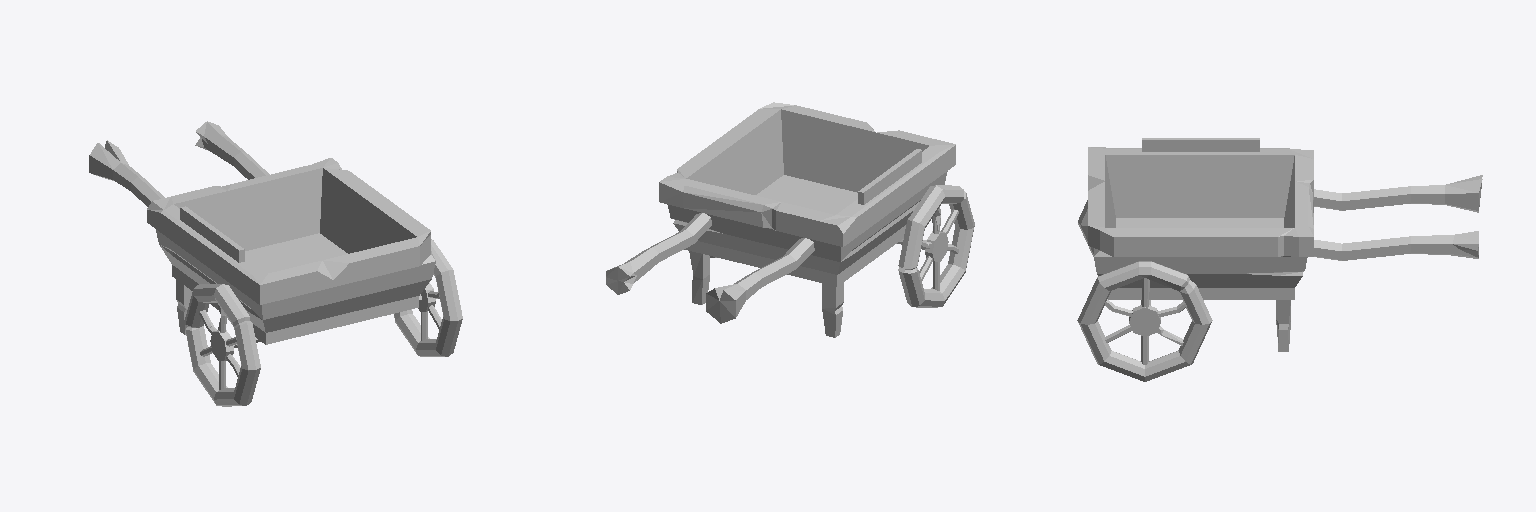
Rendered from cart02.obj.
3 views of the same model, side by side, from view 1: azimuth 30°, elevation 25°; view 2: azimuth 150°, elevation 25°; view 3: azimuth 270°, elevation 25° (orthographic).
Visible parts, largest first — view 1: cart02; view 2: cart02; view 3: cart02.
Boxes of the visible parts, x1=… form: cart02: x1=89, y1=121, x2=462, y2=406; cart02: x1=606, y1=102, x2=974, y2=337; cart02: x1=1077, y1=138, x2=1482, y2=381.
Size of the model in its own units: 0.0223 by 0.0149 by 0.0357.